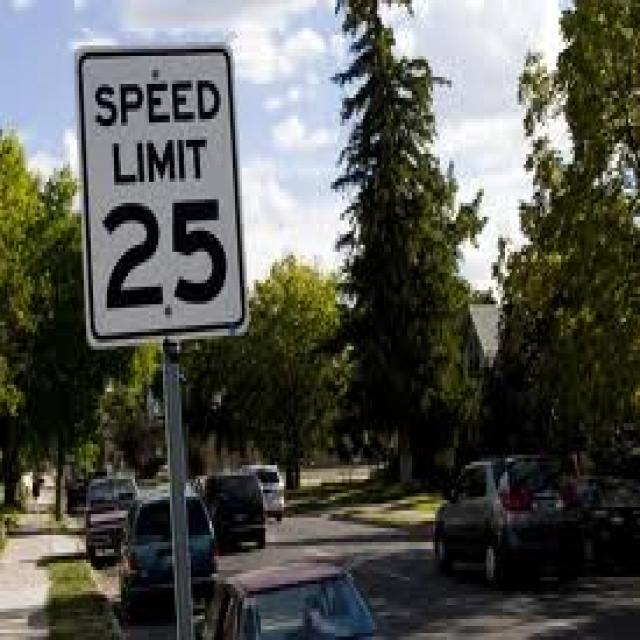regulatory: (72, 36, 250, 347), (73, 35, 251, 346)
